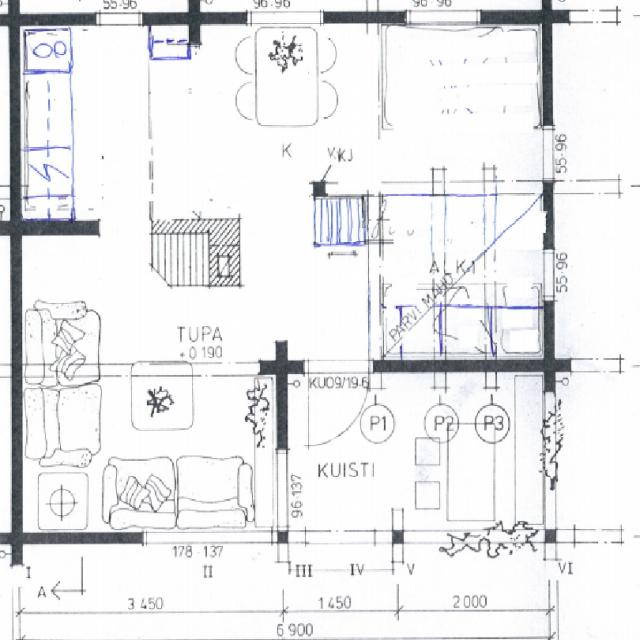door: (308, 359, 369, 441)
